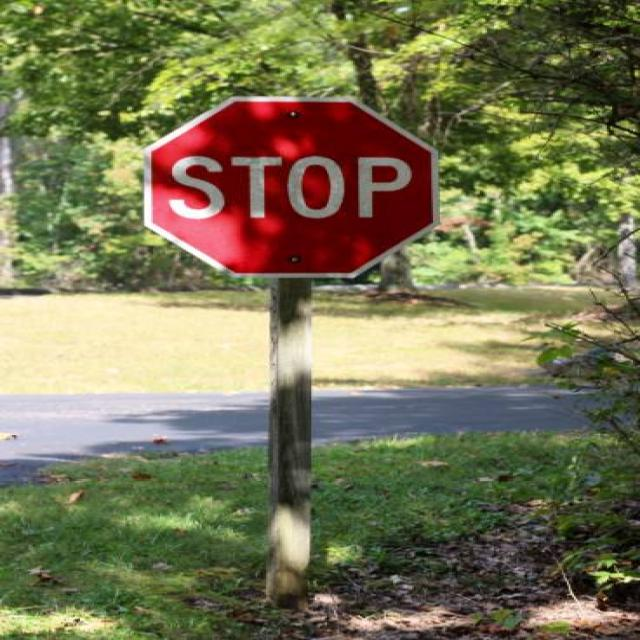stop: (125, 88, 474, 285)
